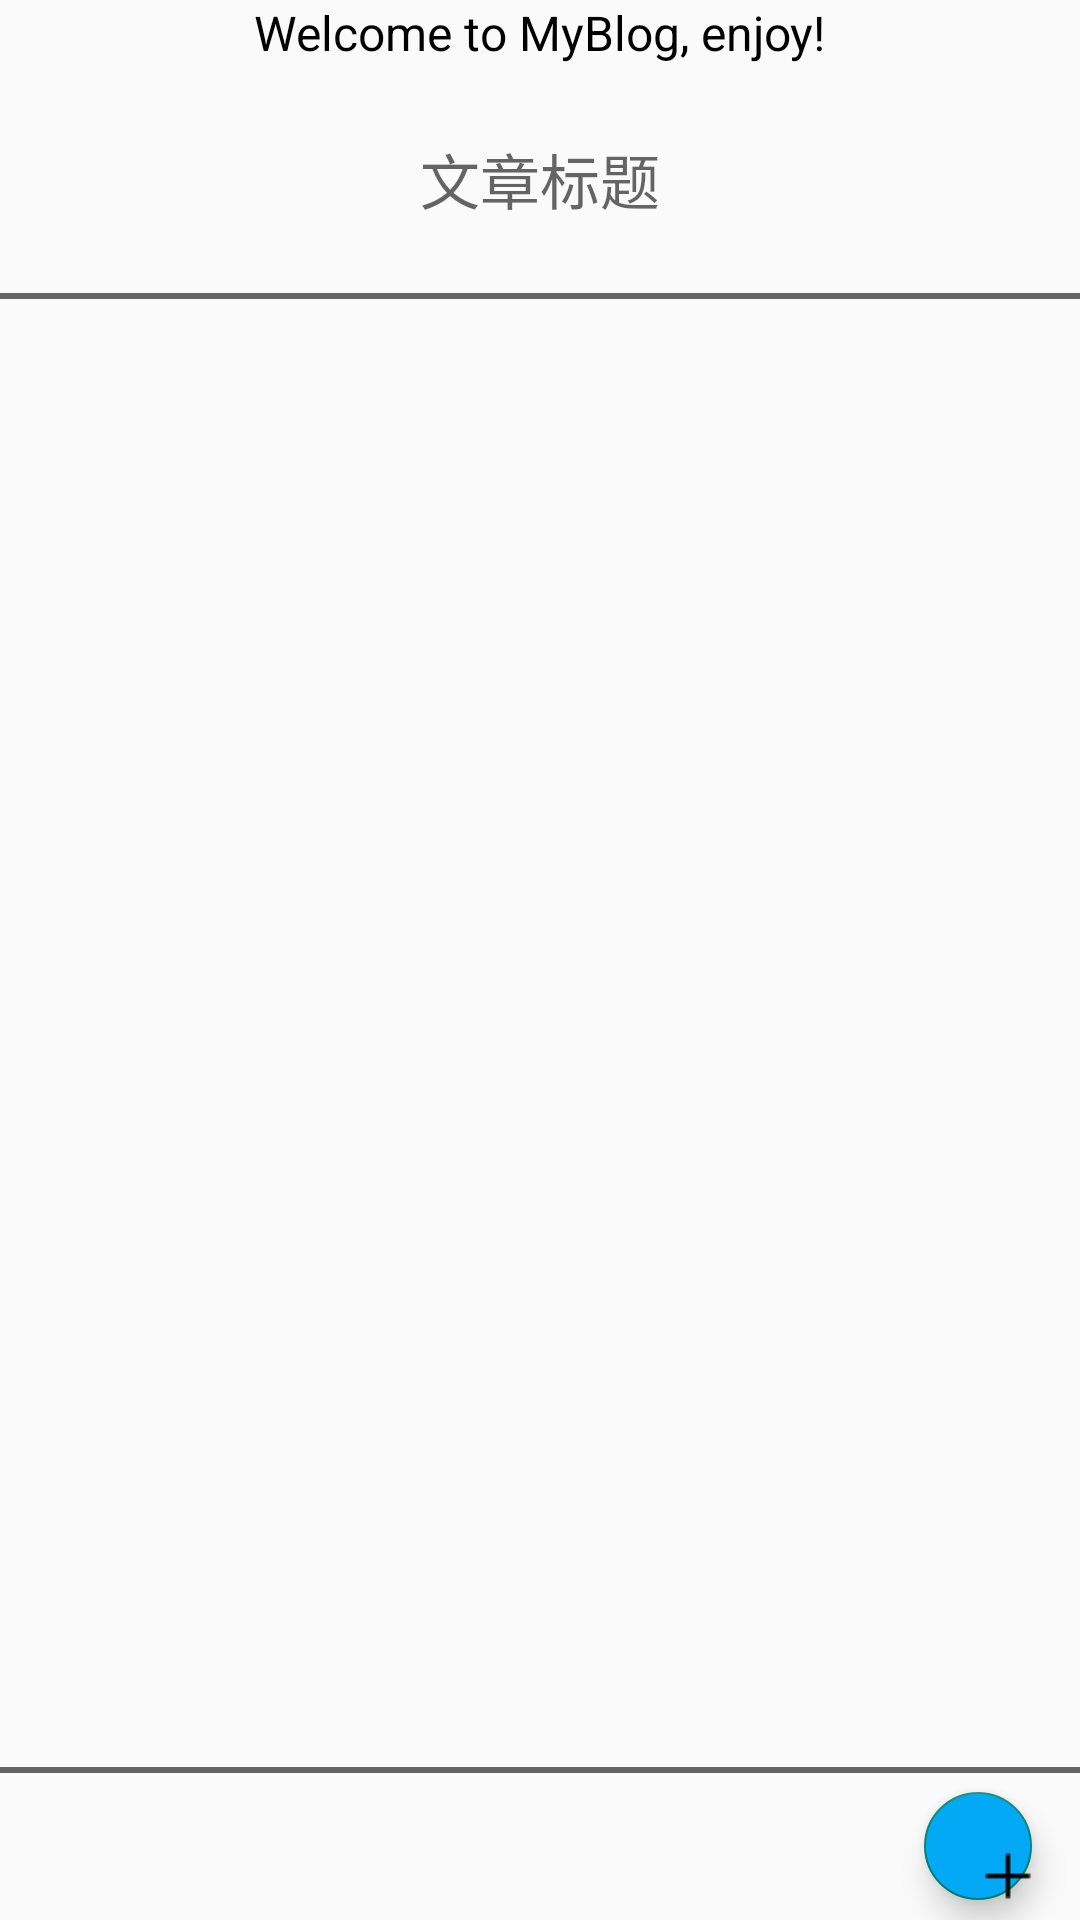

Point at icon controls on the screen. Image size 1080×1920, points as point (x, y).
add: point (978, 1846)
